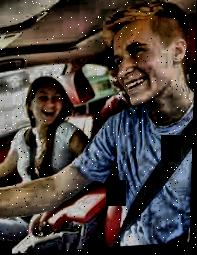seatbelt: (117, 117, 191, 246), (26, 121, 43, 183)
